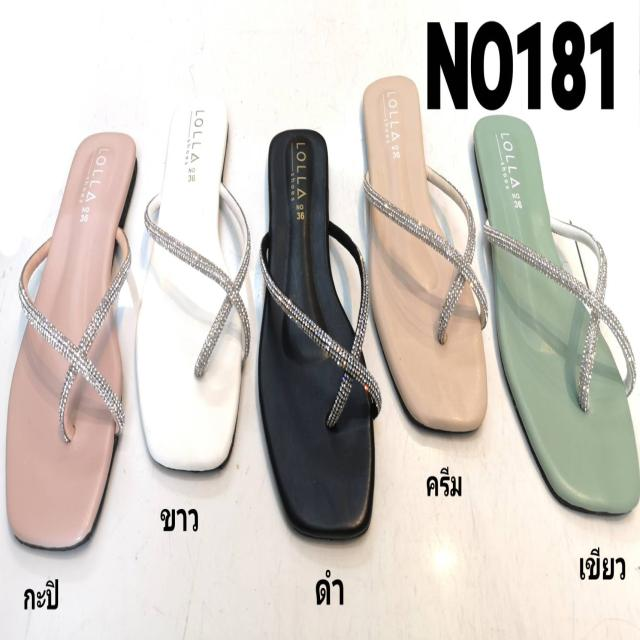black: (257, 122, 372, 543)
cream: (360, 76, 484, 433)
green: (469, 108, 639, 520)
kapi: (2, 124, 138, 560)
white: (141, 96, 242, 478)
